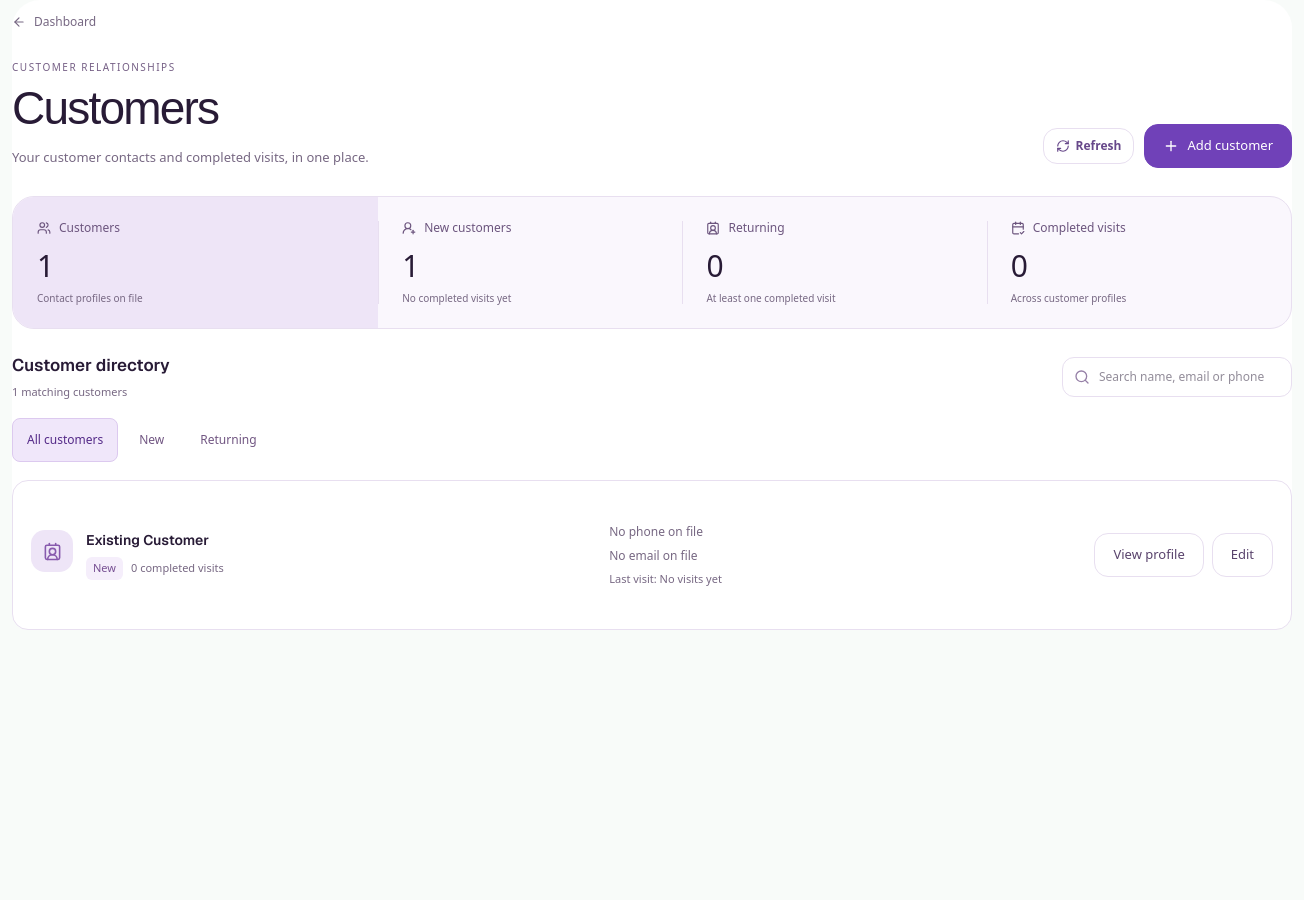
Test: owner-preview customers cache and creation › debounces server search and preserves cached rows on failed refresh
Type "someone" into the search field at (1177, 377), box [1062,357,1292,397]
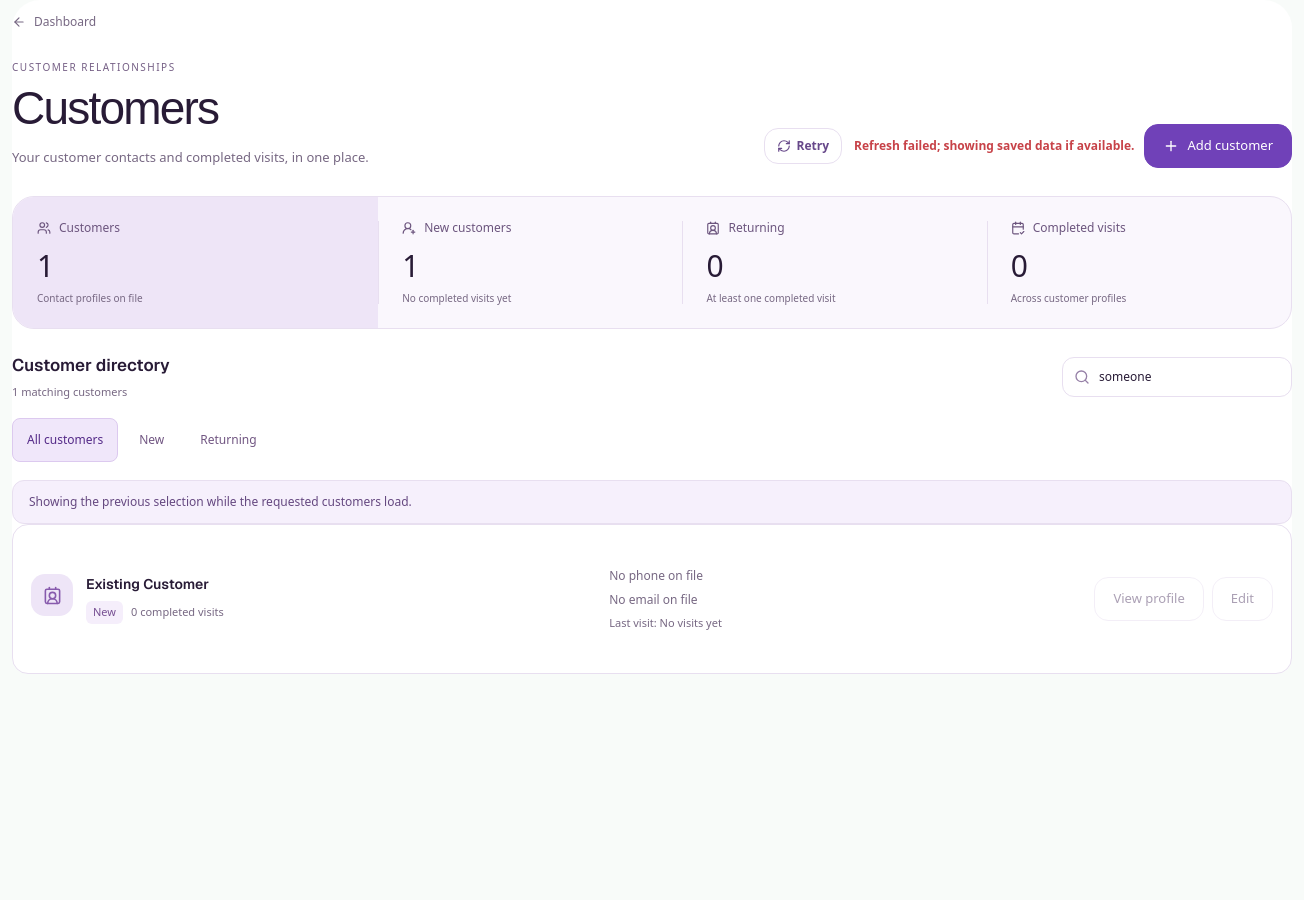
Check: the heading "Existing Customer" is shown, box [86,574,224,595]
Check: the text "Showing the previous selection while the requested customers load." is shown, box [12,480,1292,524]
Check: the button with aria-label "Edit Existing Customer" is disabled, box [1212,577,1273,621]
